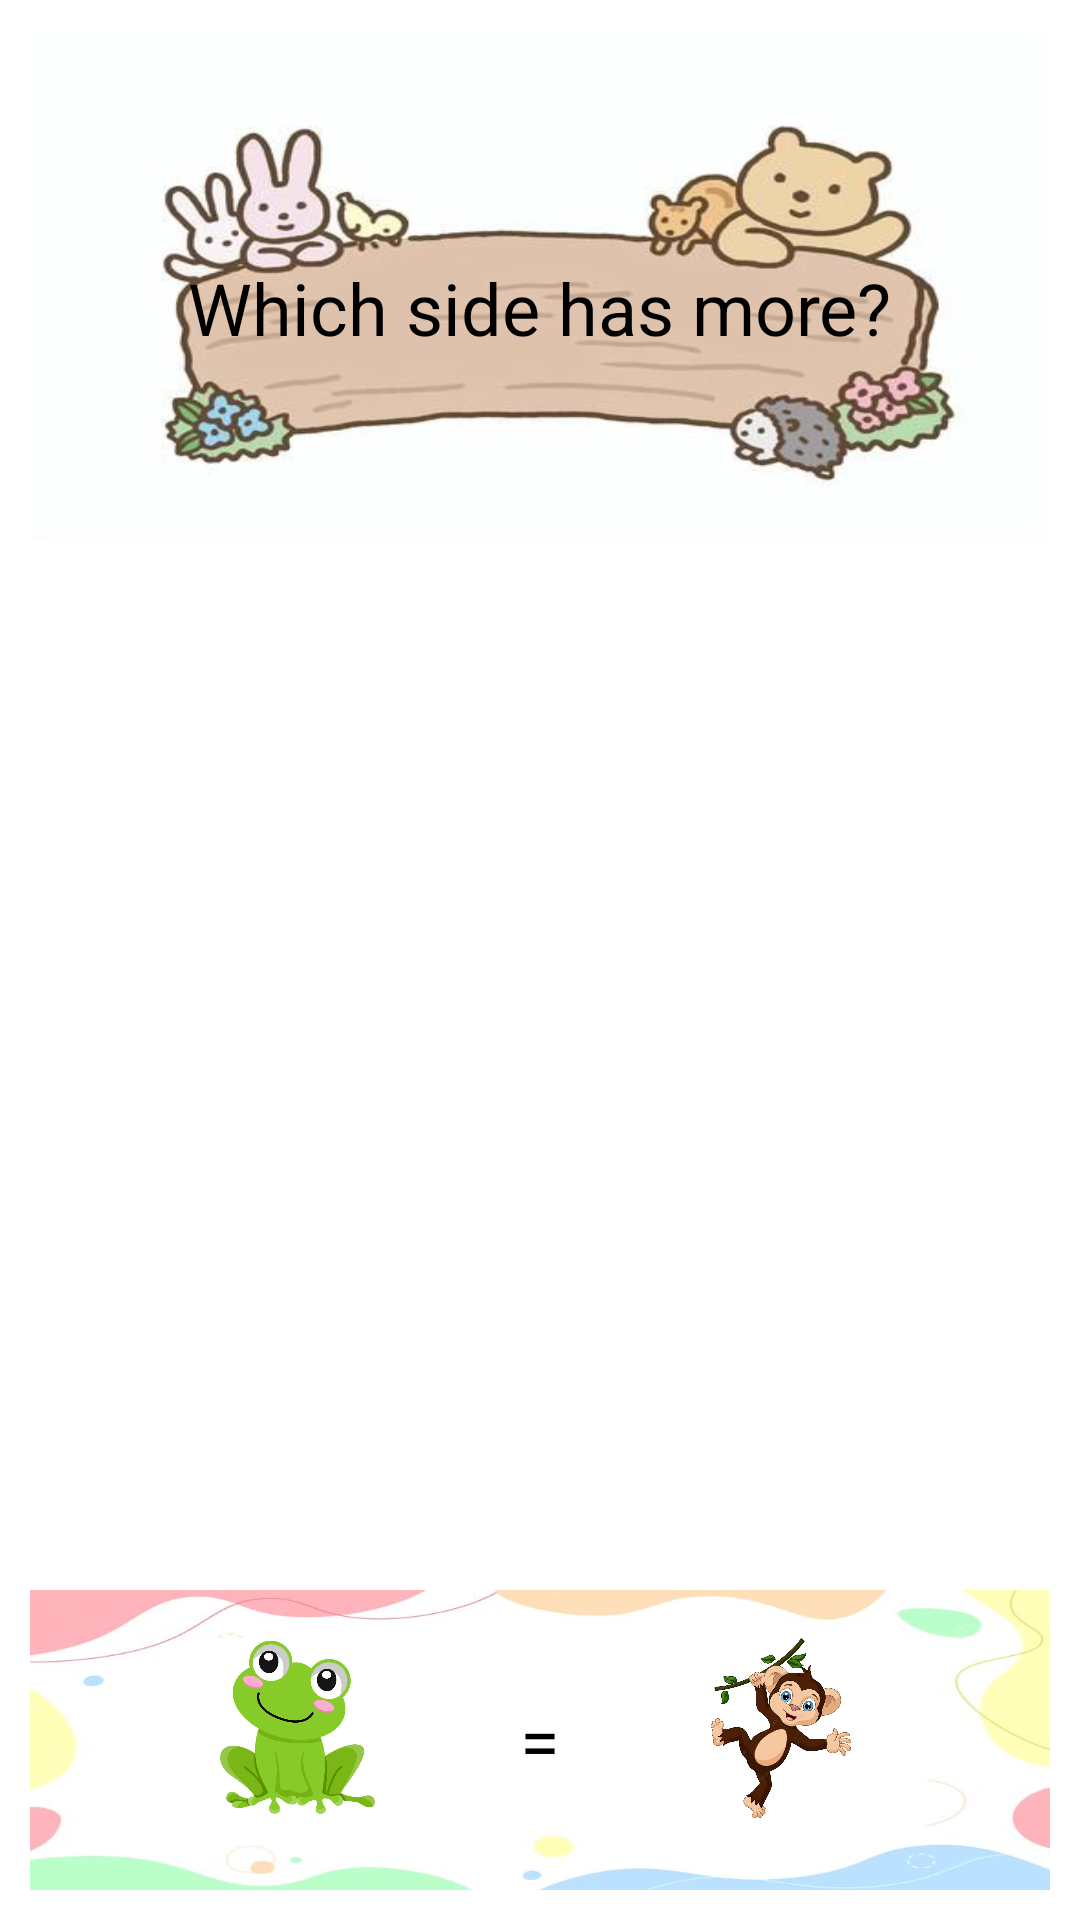

Icon click points for this 1080 x 1920 phone screenshot, format (x,y):
frog: (229,1727)
monkey: (838,1728)
